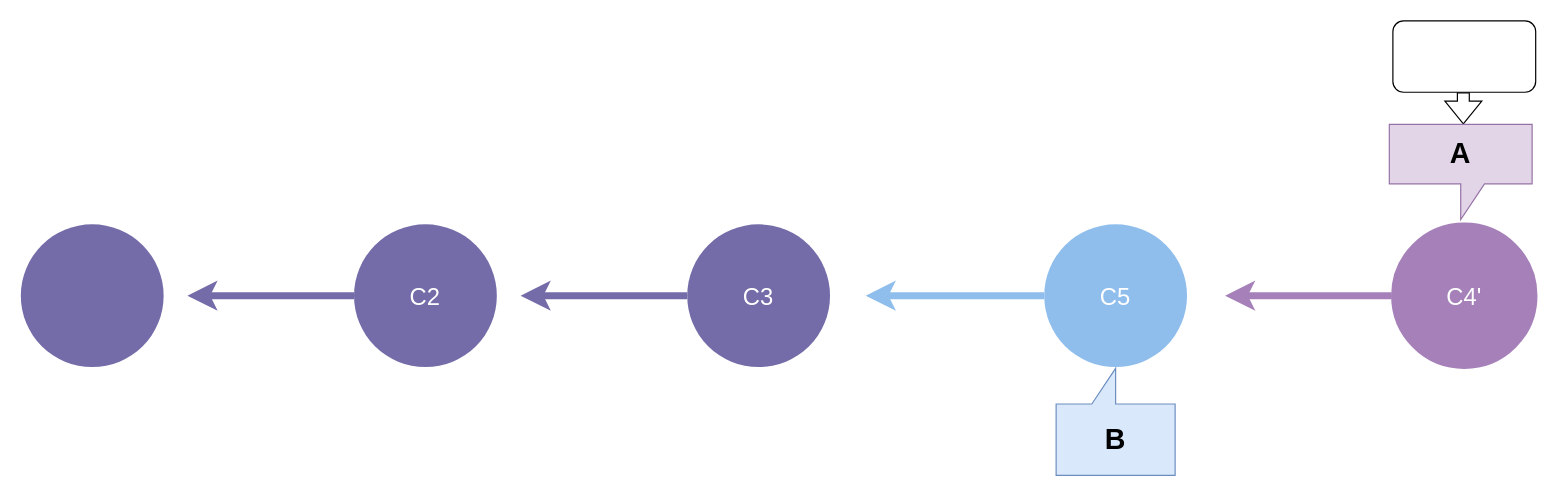
The diagram is 1558 pixels wide and 496 high, and some of its shapes have lost their labels. Each missing label, with the centre of its shape:
"C1" goes at (x=91, y=295).
"HEAD" goes at (x=1464, y=56).
